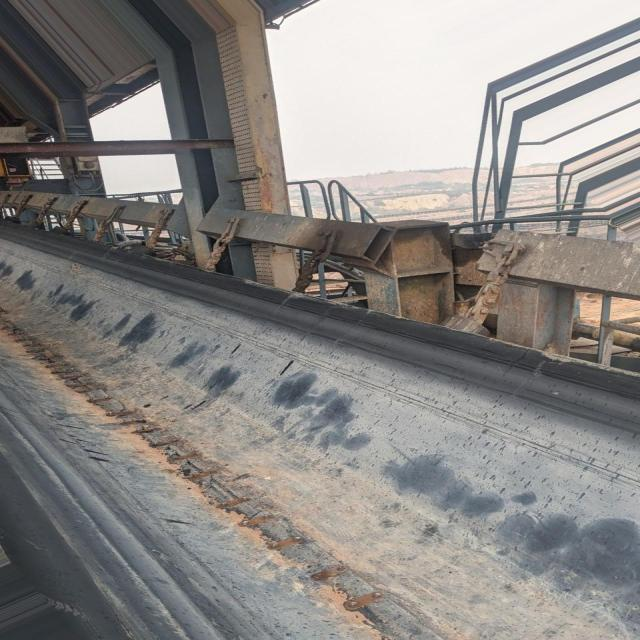patch work: (0, 298, 443, 640)
